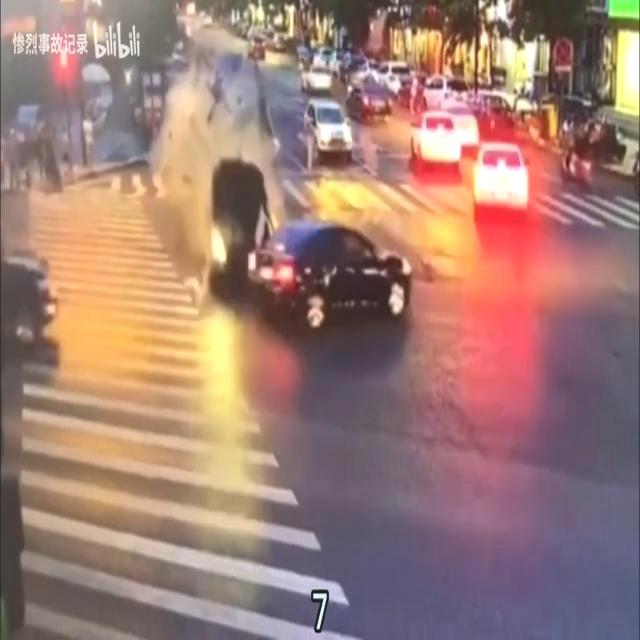accident: (204, 159, 412, 333)
non-accident: (412, 100, 528, 222), (411, 112, 534, 218), (300, 62, 392, 164), (301, 82, 394, 168)
